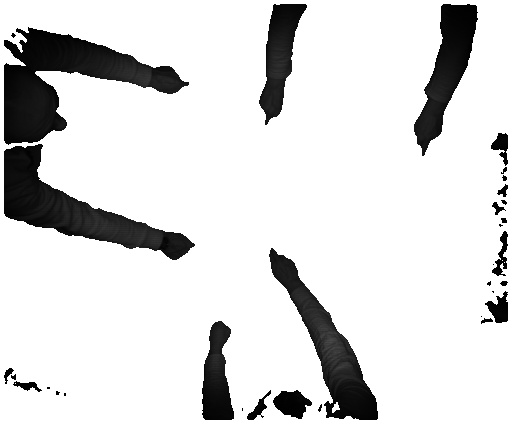fist: (208, 320, 231, 349)
hand: (408, 111, 446, 159), (264, 248, 303, 291), (256, 84, 287, 127), (165, 224, 199, 263), (155, 64, 191, 95)
